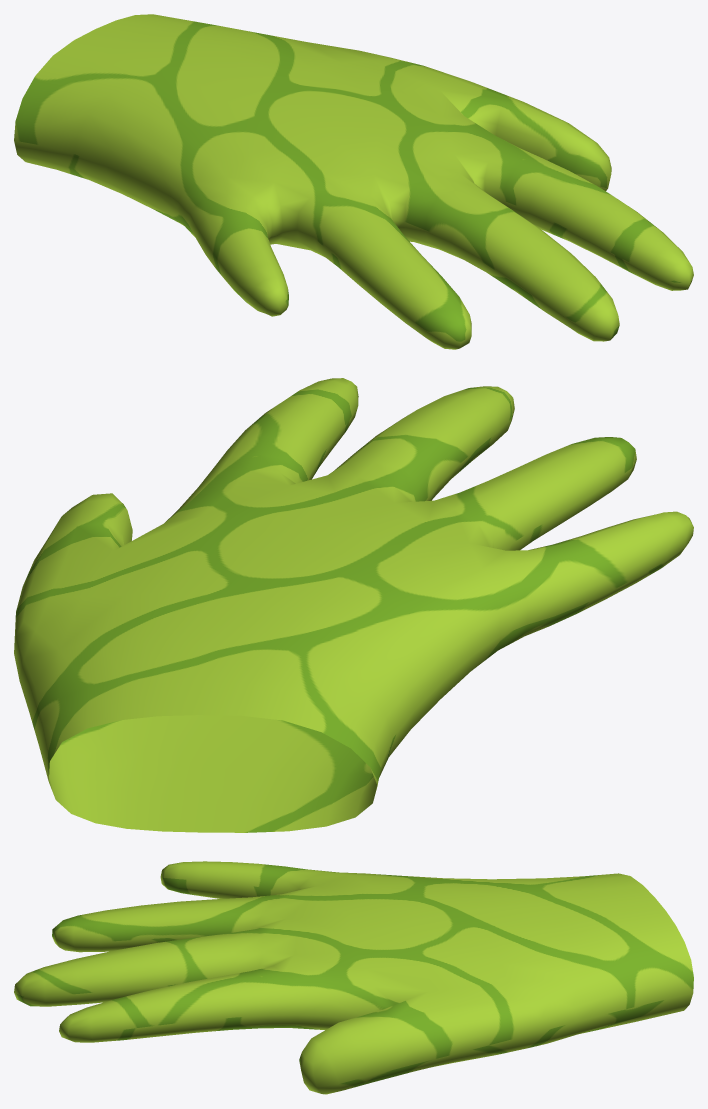
The model's file is dino-hand.fbx.
3 views of the same model, one above another, from view 1: azimuth 30°, elevation 25°; view 2: azimuth 150°, elevation 25°; view 3: azimuth 270°, elevation 25° (orthographic). The views are drawn at different scales.
Visible parts, largest first — view 1: Cube; view 2: Cube; view 3: Cube.
Part boxes in pixels (x1,y1,x2,y2): Cube: [14, 14, 693, 349]; Cube: [14, 378, 693, 832]; Cube: [14, 861, 693, 1094].
Size of the model in its own units: 290 by 71.87 by 472.
1 material, 1 textured.
